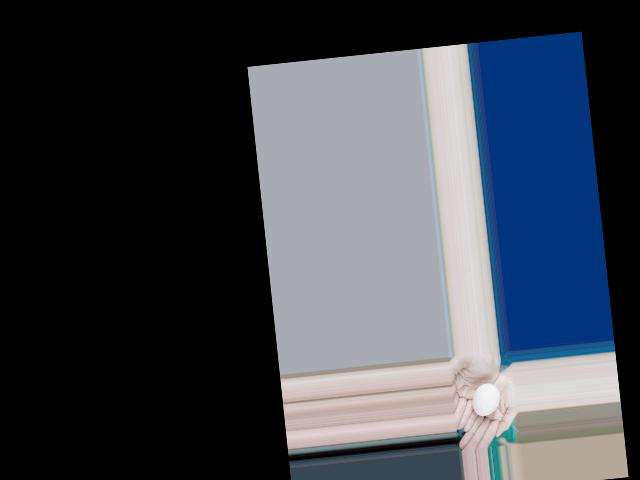egg: (470, 383, 501, 417)
